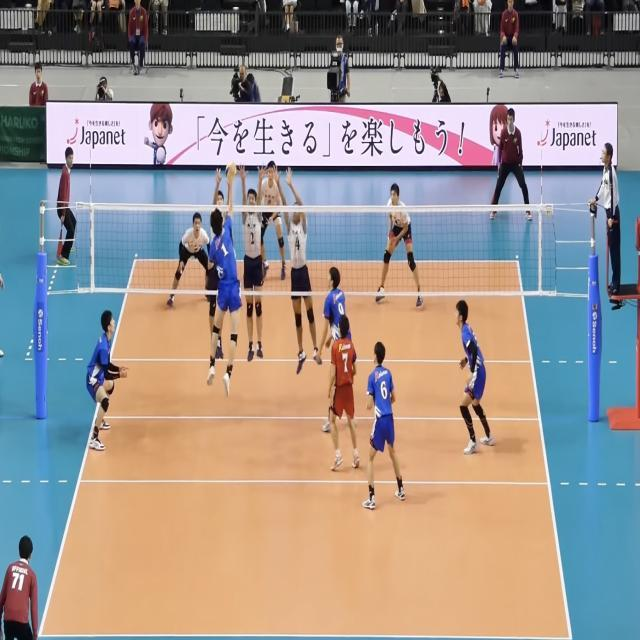spike: (204, 162, 242, 402)
